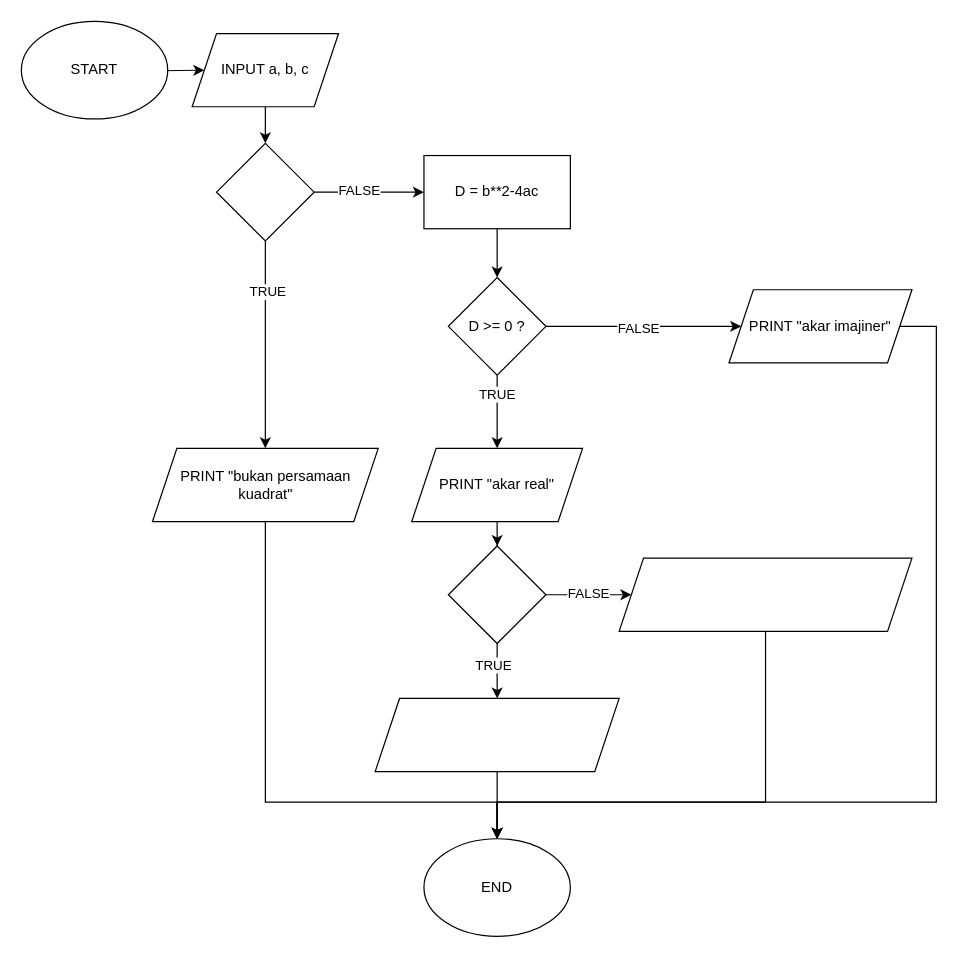
This 967x958 diagram has some shape labels left out. Here are the shapes that lost their labels. From the top down, the centre of each, then its label:
point 264,191: a == 0 ?
point 496,594: D > 0 ?
point 765,594: PRINT "akar real dan kembar"
point 496,734: PRINT "akar real dan berlainan"
